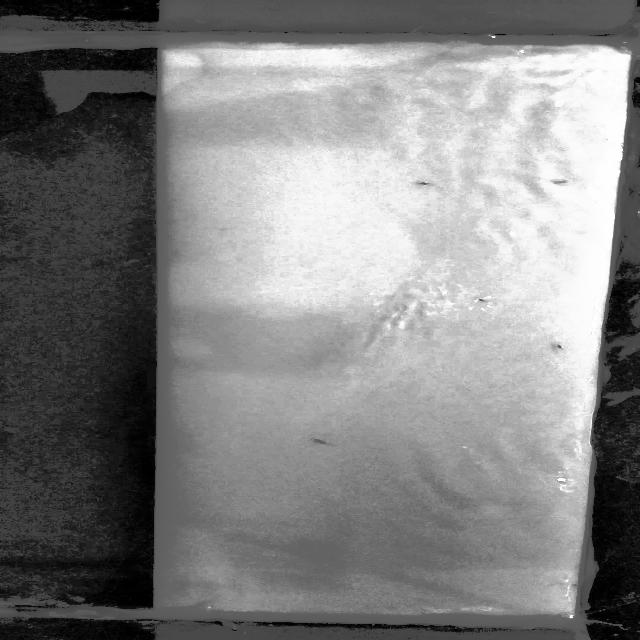shrimp: (308, 436, 345, 449), (548, 174, 572, 186), (413, 180, 439, 188), (552, 341, 566, 354), (476, 298, 490, 306)
